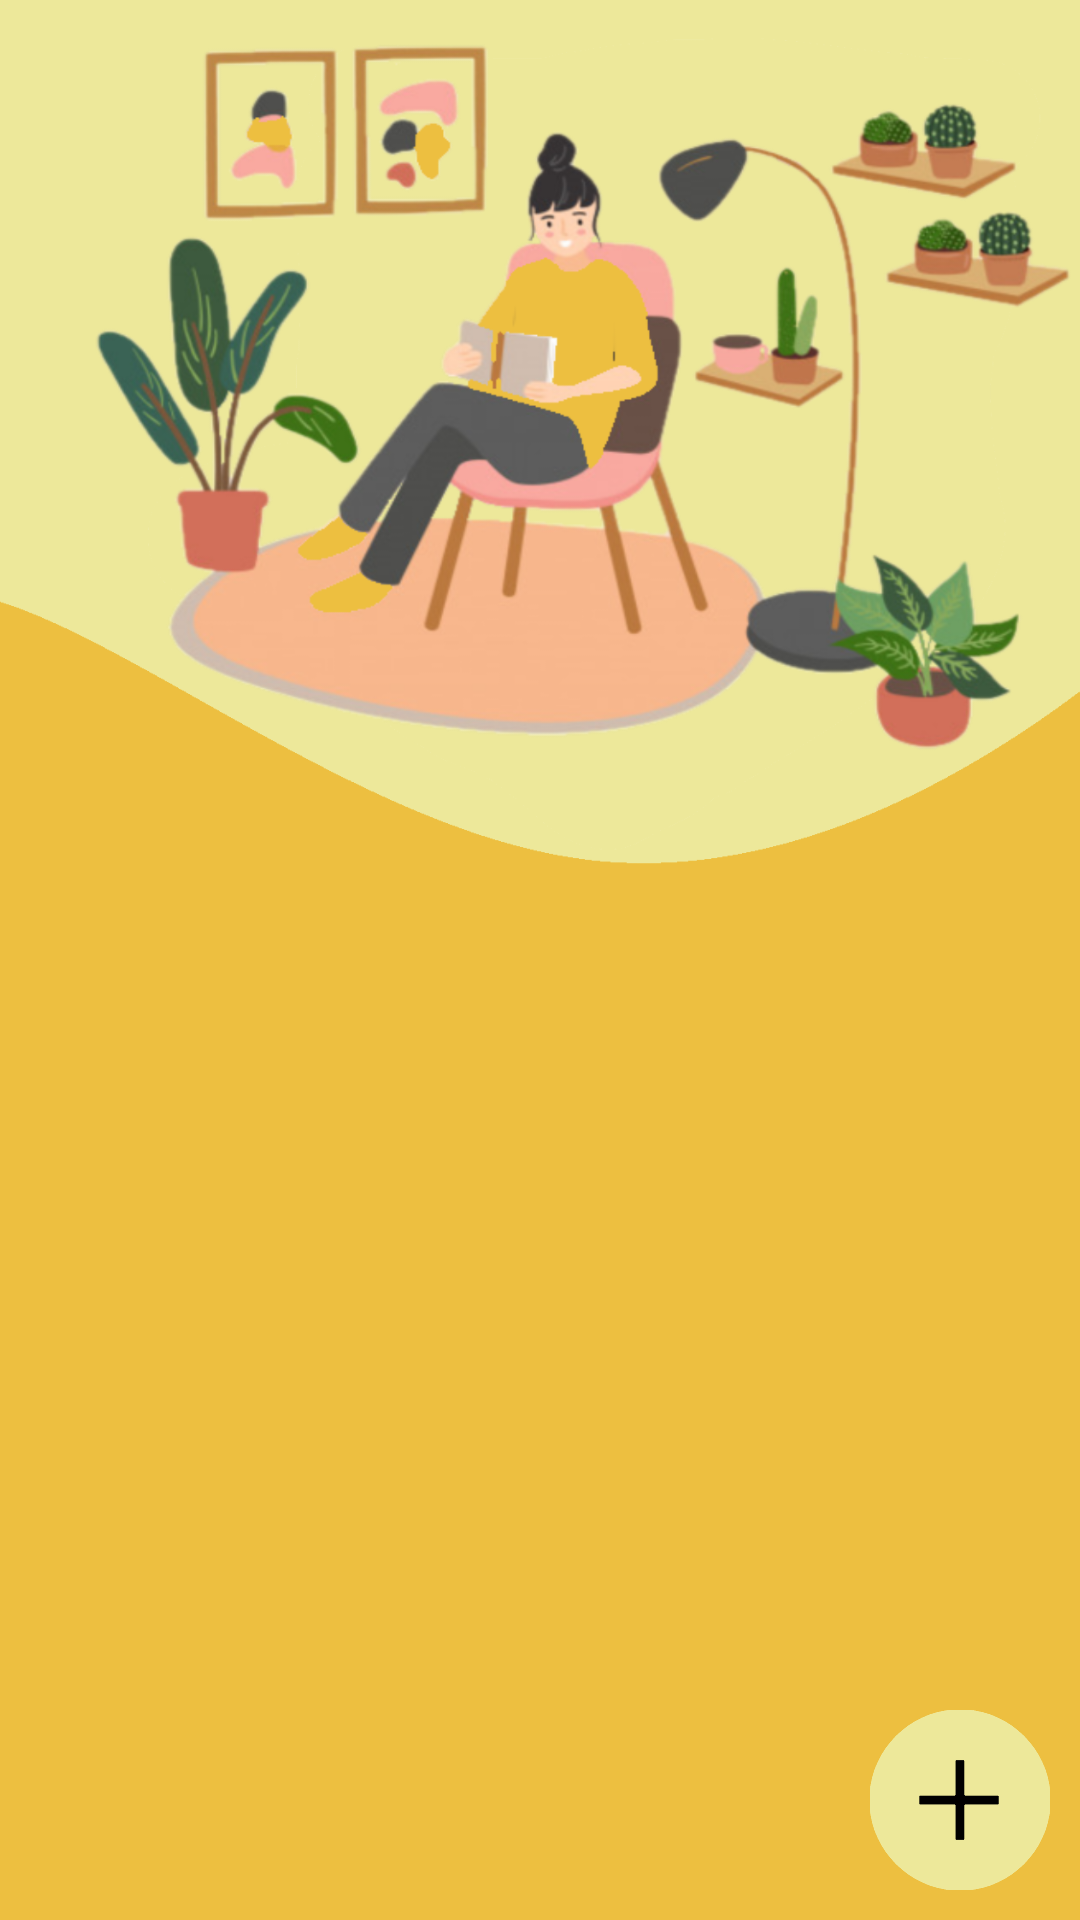

Icon bounding boxes for this 1080px x 1920px phone screenshot, format (x1, y1, x2, y2):
entry: (870, 1710, 1050, 1890)
